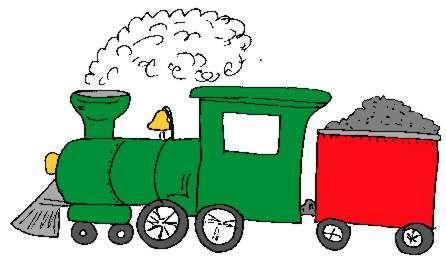train: (4, 88, 438, 255)
